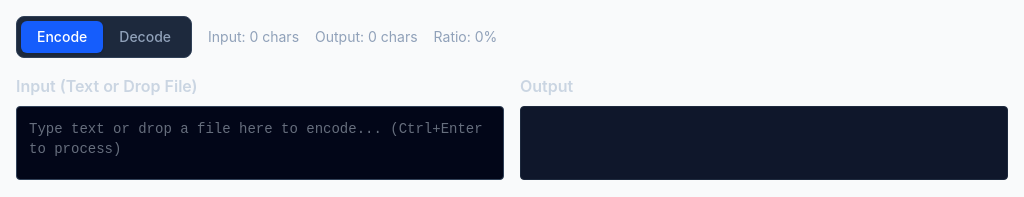
it: Base64 Encoder › should encode text to base64
The image size is (1024, 197).
Replace the text in the text box with placeholder "Type text or drop a file" with "Hello World" at point(260, 143), box [16, 106, 504, 180]
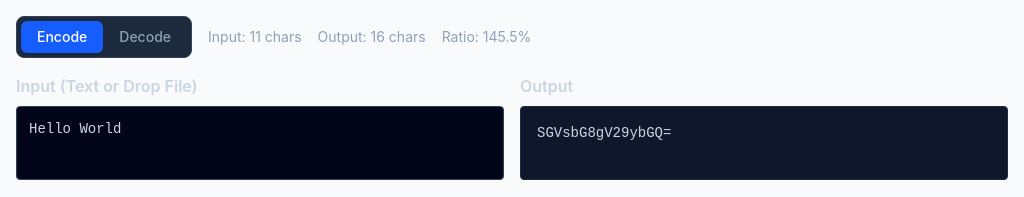
Expected: the 2nd text box holds "SGVsbG8gV29ybGQ=", [537, 123, 991, 163]
